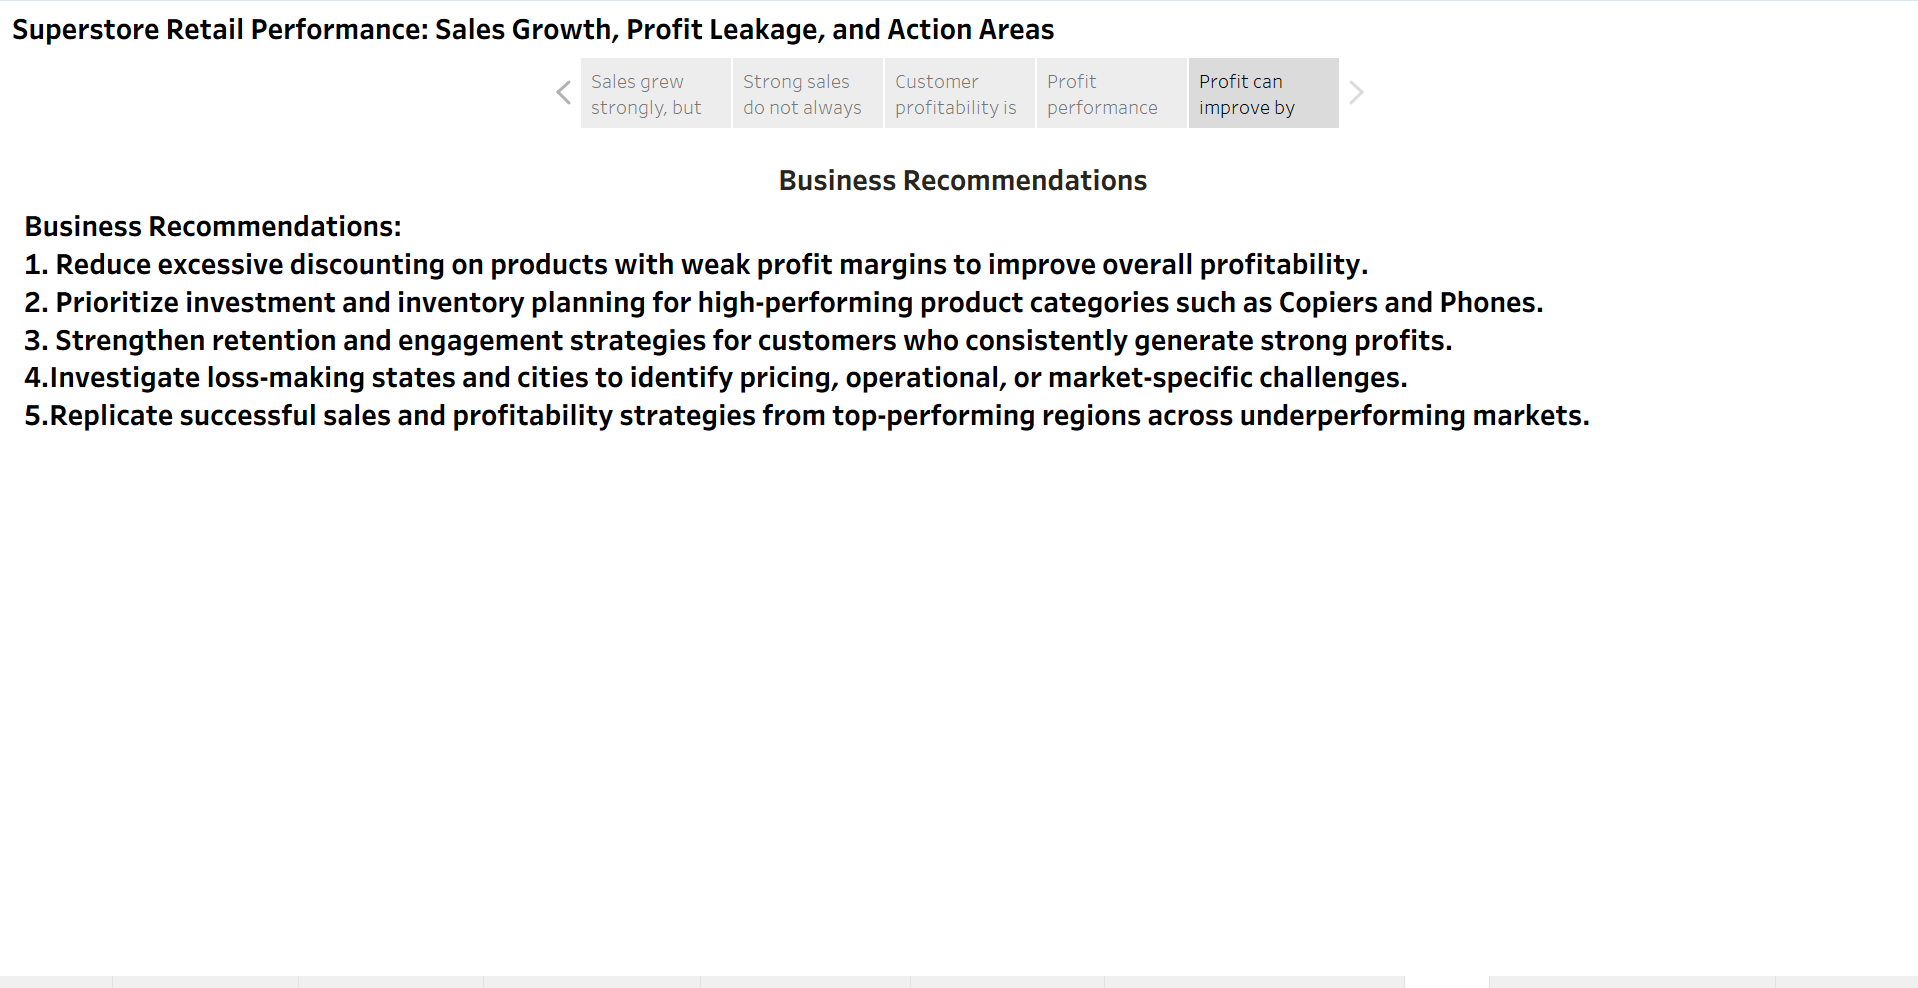

The dashboard page shown, as its layout file describes it:
{"tool":"tableau","page":{"name":" Business Recommendations","canvas":[1000,1000],"units":"permille","ordinal":0},"visuals":[{"type":"title","box":[5,10.3,990,59.2]},{"type":"text","box":[5,69.5,990,303.7]}]}

Visuals, with their boxes on the dashboard's canvas, which has no fixed pixel size, in thousandths of its width and height (x1, y1, x2, y2). These are canvas units, not pixel positions in the 1918x988 screenshot, which may show the page scaled, cropped or inside an application window:
title: (x1=5, y1=10, x2=995, y2=70)
text: (x1=5, y1=70, x2=995, y2=373)
